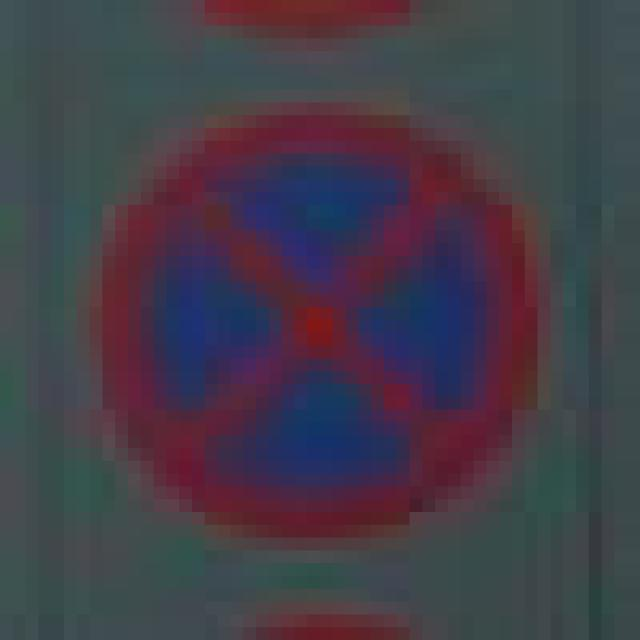no_parking: (76, 90, 538, 524)
